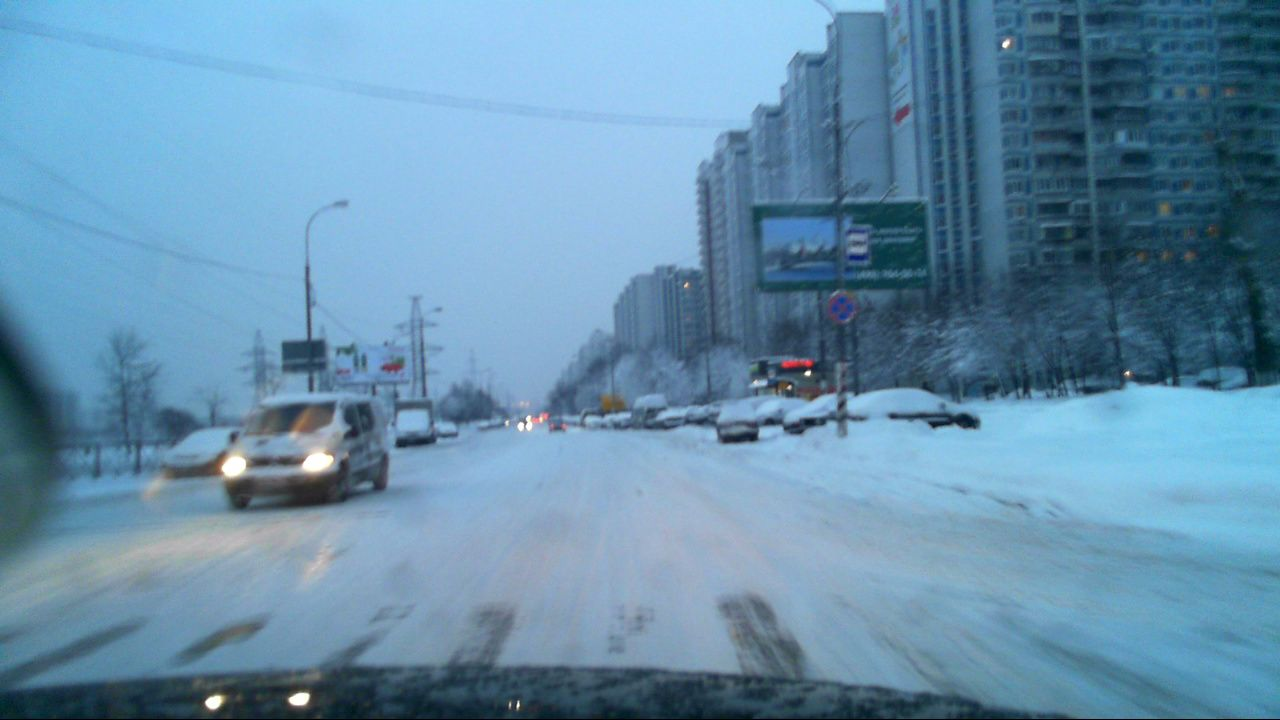No Parking: (822, 284, 861, 324)
